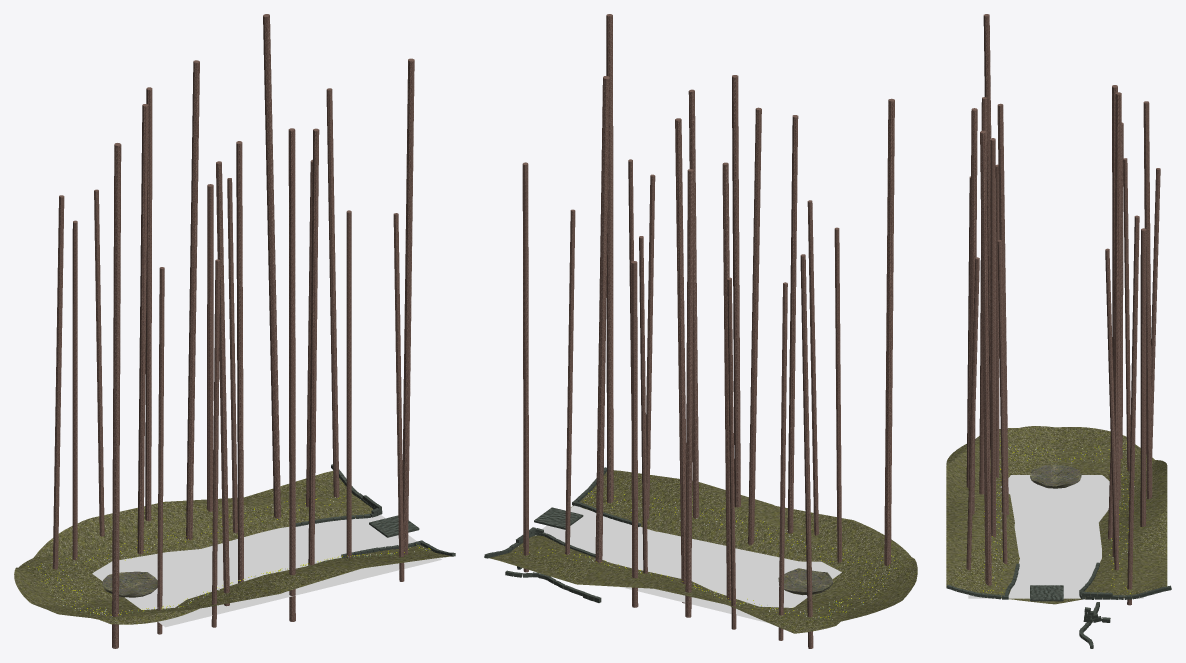
Rendered from forest29_ex.glb.
The picture shows the model from 3 angles, left to right: view 1: azimuth 30°, elevation 25°; view 2: azimuth 150°, elevation 25°; view 3: azimuth 270°, elevation 25°; orthographic projection. The views are drawn at different scales.
Visible parts, largest first — view 1: Trees, Landscape.1, Water, Base; view 2: Trees, Landscape.1, Water, Base; view 3: Trees, Landscape.1, Water, Base, Cube.
Boxes of the visible parts, <box> form: Trees: <box>52,14,414,648</box>; Landscape.1: <box>14,471,453,624</box>; Water: <box>92,514,441,627</box>; Base: <box>102,571,157,597</box>; Trees: <box>522,14,894,648</box>; Landscape.1: <box>489,470,917,633</box>; Water: <box>535,505,841,623</box>; Base: <box>778,568,833,595</box>; Trees: <box>966,14,1160,605</box>; Landscape.1: <box>946,426,1167,604</box>; Water: <box>968,475,1143,598</box>; Base: <box>1030,464,1081,488</box>; Cube: <box>1030,585,1063,601</box>.
Bounding box in the file's own units: 242 × 329 × 133.
7 materials, 4 textured.
